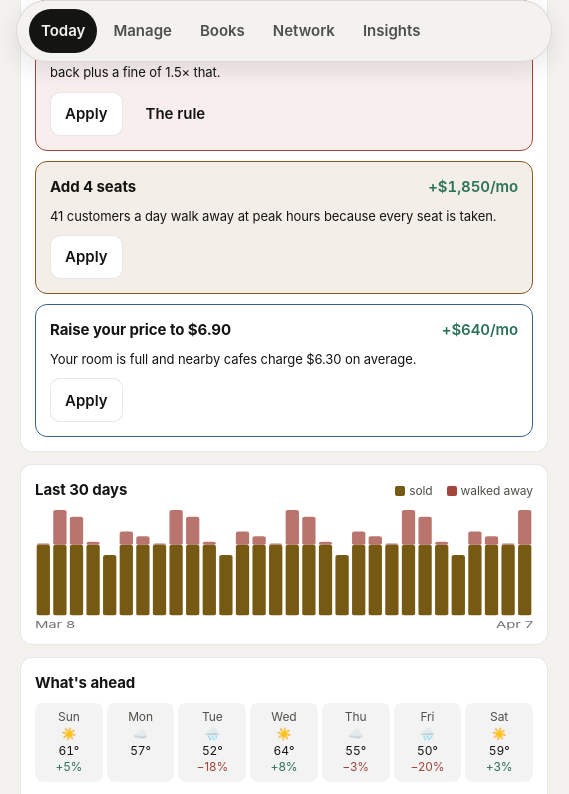
Test: main scenario: look at what happened, apply the advice › Apply on a change of standing orders keeps its forecast: Today shows "Your change" at once
(page scrolled)
Click the button "Apply" below "Raise your price to $6.90": {"x": 86, "y": 400} [50,378,122,422]
(page scrolled)
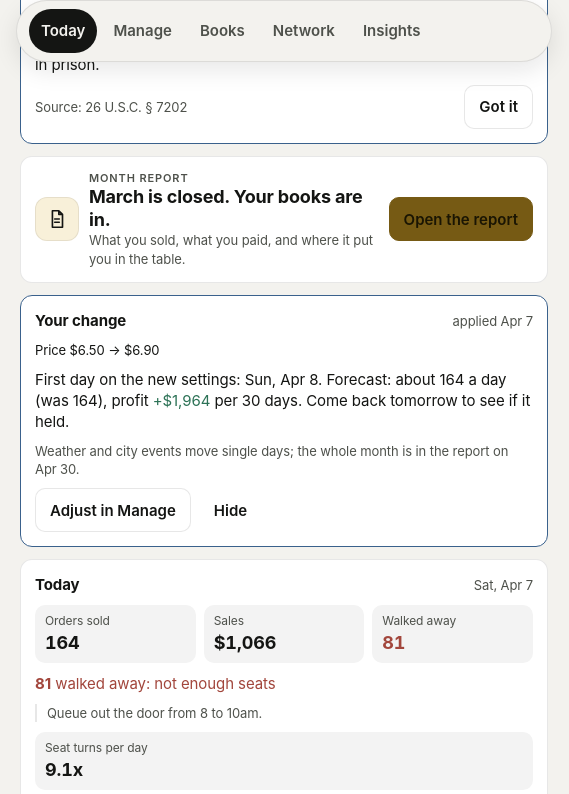
Now the heading "Your change" is shown, box [35,310,126,331]
Now the text "Price $6.50 → $6.90" is shown, box [35,342,160,358]
